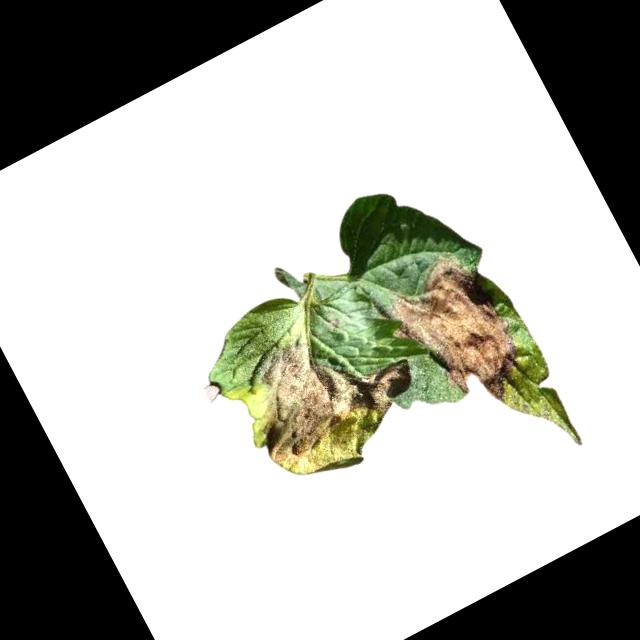Late_blight: (220, 300, 438, 504), (371, 244, 535, 430)
